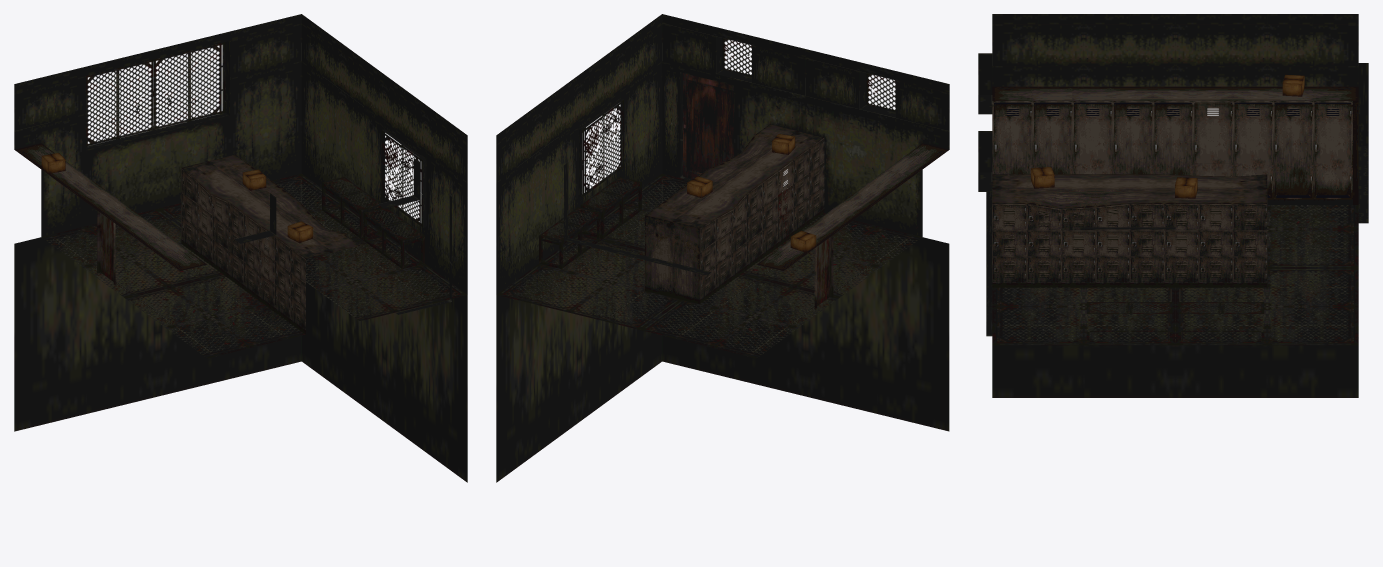
File: SUFE00.glb
3 views of the same model, side by side, from view 1: azimuth 30°, elevation 25°; view 2: azimuth 150°, elevation 25°; view 3: azimuth 270°, elevation 25° (orthographic). The views are drawn at different scales.
Visible parts, largest first — view 1: NULL_m4, SITA_HID#3_m0, SITA_HID#2_m0, NULL_m0, NULL_m6, NULL_m3, NULL_m7, ISU_HIDE_m0, ISU_HIDE#1_m0, TOBIRA2__m0, NULL_m1; view 2: SITA_HID#1_m0, SITA_HID#2_m0, NULL_m0, NULL_m2, NULL_m6, NULL_m3, NULL_m1, NULL_m7, ISU_HIDE_m0, ISU_HIDE#1_m0, TOBIRA2__m0, NULL_m4; view 3: SITA_HID_m0, NULL_m7, NULL_m3, NULL_m1, NULL_m6, TOBIRA2__m0, NULL_m4, ISU_HIDE_m0, ISU_HIDE#1_m0, NULL_m2, NULL_m0, BOX_HIDE#1_m0 (+2 smaller).
Boxes of the visible parts, x1=… form: NULL_m4: x1=14, y1=14, x2=301, y2=236; SITA_HID#3_m0: x1=14, y1=176, x2=301, y2=431; SITA_HID#2_m0: x1=301, y1=177, x2=467, y2=482; NULL_m0: x1=259, y1=14, x2=467, y2=294; NULL_m6: x1=41, y1=173, x2=466, y2=358; NULL_m3: x1=181, y1=154, x2=360, y2=334; NULL_m7: x1=14, y1=143, x2=206, y2=270; ISU_HIDE_m0: x1=363, y1=208, x2=424, y2=268; ISU_HIDE#1_m0: x1=322, y1=176, x2=383, y2=238; TOBIRA2__m0: x1=97, y1=210, x2=115, y2=285; NULL_m1: x1=234, y1=158, x2=419, y2=243; SITA_HID#1_m0: x1=662, y1=176, x2=949, y2=431; SITA_HID#2_m0: x1=496, y1=177, x2=662, y2=482; NULL_m0: x1=496, y1=14, x2=792, y2=294; NULL_m2: x1=662, y1=14, x2=949, y2=236; NULL_m6: x1=497, y1=173, x2=922, y2=358; NULL_m3: x1=645, y1=124, x2=824, y2=304; NULL_m1: x1=662, y1=23, x2=949, y2=130; NULL_m7: x1=757, y1=143, x2=949, y2=270; ISU_HIDE_m0: x1=580, y1=176, x2=641, y2=238; ISU_HIDE#1_m0: x1=539, y1=207, x2=600, y2=268; TOBIRA2__m0: x1=814, y1=235, x2=833, y2=309; NULL_m4: x1=564, y1=162, x2=711, y2=275; SITA_HID_m0: x1=992, y1=205, x2=1358, y2=397; NULL_m7: x1=992, y1=86, x2=1358, y2=204; NULL_m3: x1=992, y1=174, x2=1267, y2=287; NULL_m1: x1=978, y1=14, x2=1358, y2=191; NULL_m6: x1=992, y1=205, x2=1358, y2=345; TOBIRA2__m0: x1=1194, y1=102, x2=1230, y2=176; NULL_m4: x1=1358, y1=63, x2=1368, y2=223; ISU_HIDE_m0: x1=1086, y1=302, x2=1172, y2=341; ISU_HIDE#1_m0: x1=1178, y1=302, x2=1264, y2=341; NULL_m2: x1=986, y1=192, x2=992, y2=336; NULL_m0: x1=1083, y1=101, x2=1232, y2=229; BOX_HIDE#1_m0: x1=1031, y1=167, x2=1054, y2=188.
Size of the model in its own units: 6.4 by 7.4 by 6.81.
12 materials, 12 textured.
